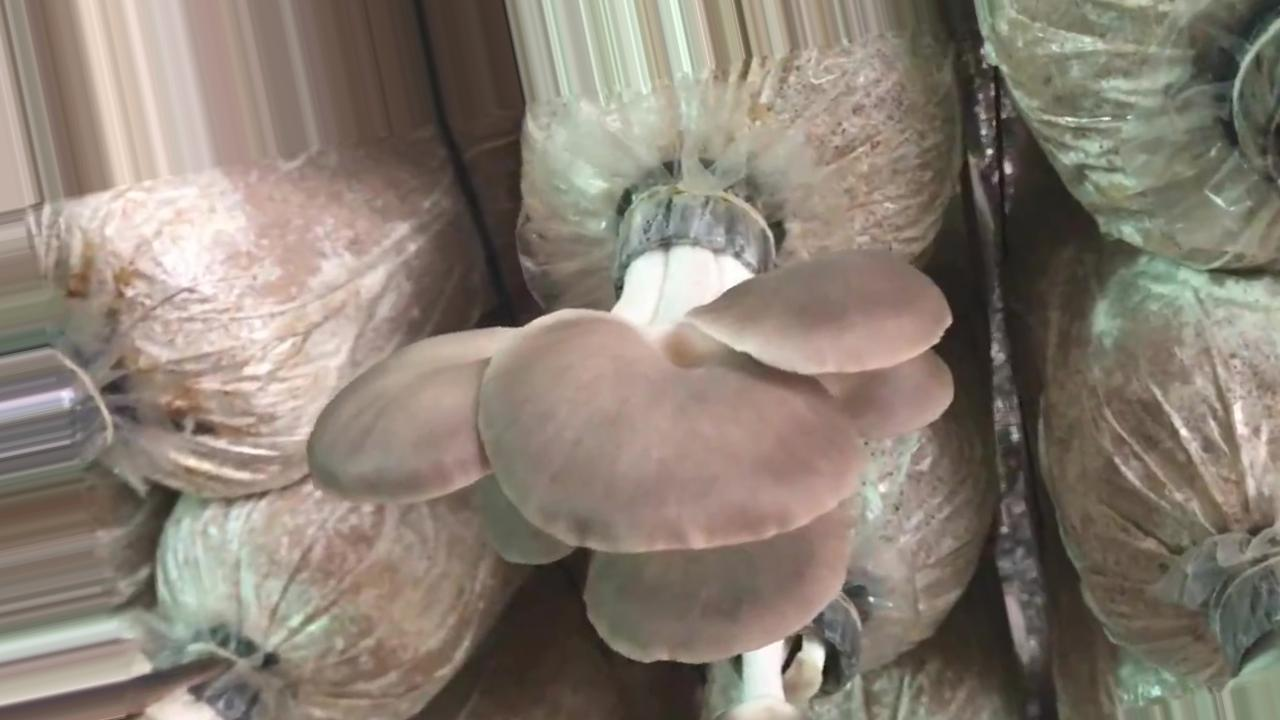nam: (310, 192, 955, 664), (726, 598, 864, 720)
